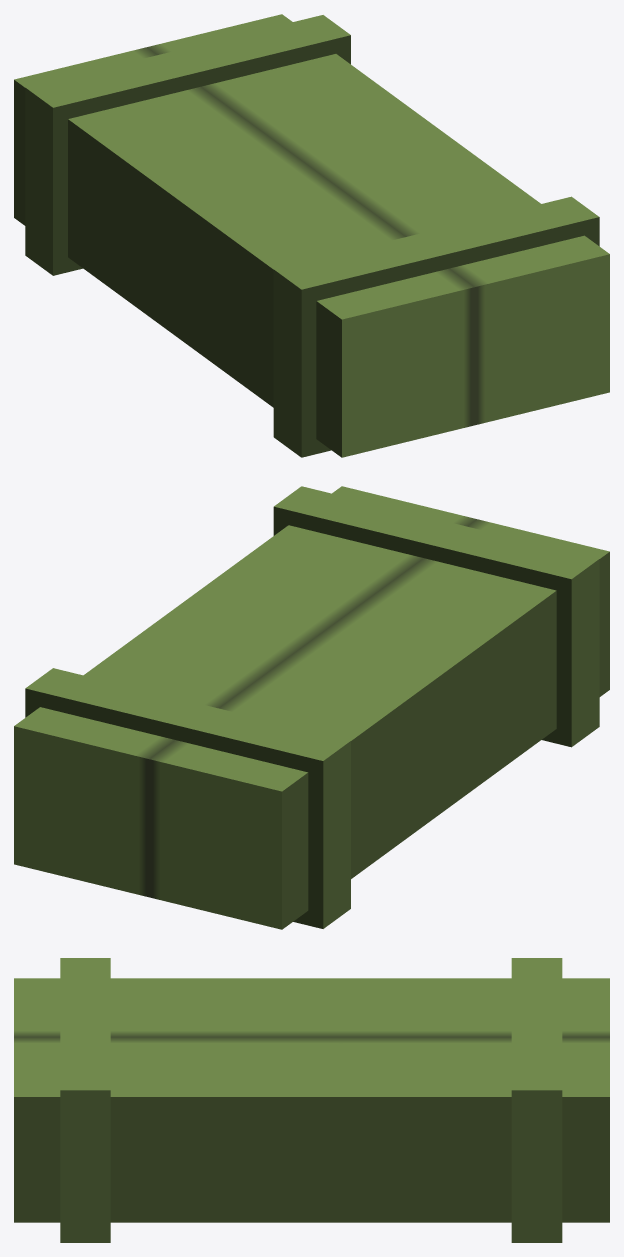
File: SM_Prop_Ammo_Box_04.fbx
The picture shows the model from 3 angles, top to bottom: view 1: azimuth 30°, elevation 25°; view 2: azimuth 150°, elevation 25°; view 3: azimuth 270°, elevation 25°; orthographic projection. The views are drawn at different scales.
Visible parts, largest first — view 1: SM_Prop_Ammo_Box_04; view 2: SM_Prop_Ammo_Box_04; view 3: SM_Prop_Ammo_Box_04.
Part boxes in pixels (x1,y1,x2,y2): SM_Prop_Ammo_Box_04: [14, 14, 609, 457]; SM_Prop_Ammo_Box_04: [14, 486, 609, 929]; SM_Prop_Ammo_Box_04: [14, 958, 609, 1242].
Size of the model in its own units: 1.08 by 0.5804 by 2.05.
